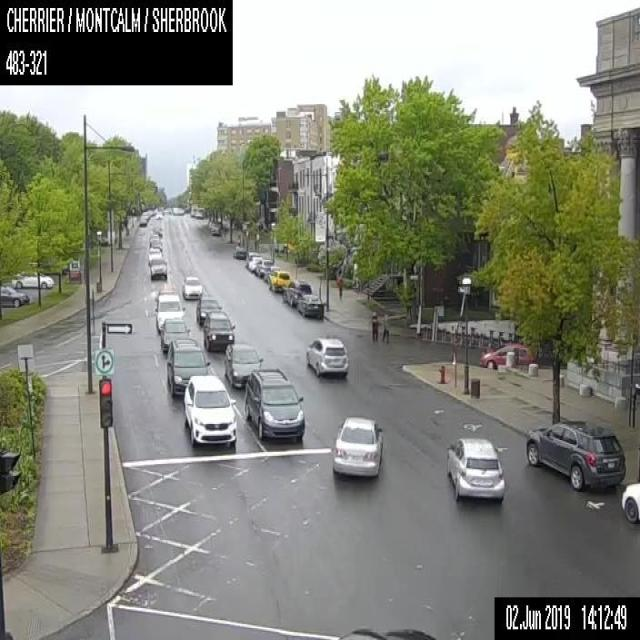pedestrian: (369, 310, 378, 342), (380, 313, 388, 342)
vehicle: (524, 417, 626, 492), (244, 367, 304, 438), (444, 435, 504, 501), (183, 375, 236, 447), (330, 415, 383, 480), (166, 338, 209, 396), (304, 334, 348, 378), (224, 343, 263, 387), (479, 342, 531, 369), (202, 309, 235, 350), (154, 294, 185, 332), (336, 628, 436, 639), (159, 317, 190, 351), (620, 481, 639, 524), (282, 280, 311, 307), (11, 269, 53, 287), (296, 292, 324, 319), (195, 296, 221, 324), (0, 285, 29, 307), (182, 276, 202, 300), (268, 270, 289, 290), (148, 257, 167, 279), (254, 259, 272, 277), (146, 248, 162, 264), (262, 265, 279, 280), (248, 254, 262, 272), (245, 252, 259, 266), (232, 245, 245, 258), (210, 223, 219, 235), (138, 215, 146, 225), (195, 207, 202, 218), (100, 236, 108, 245)
